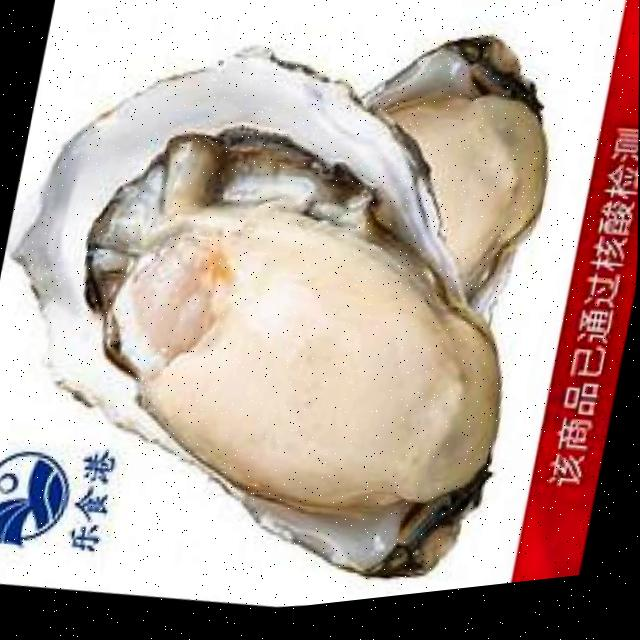Oyster-Open: (0, 6, 519, 628), (346, 20, 559, 337)
